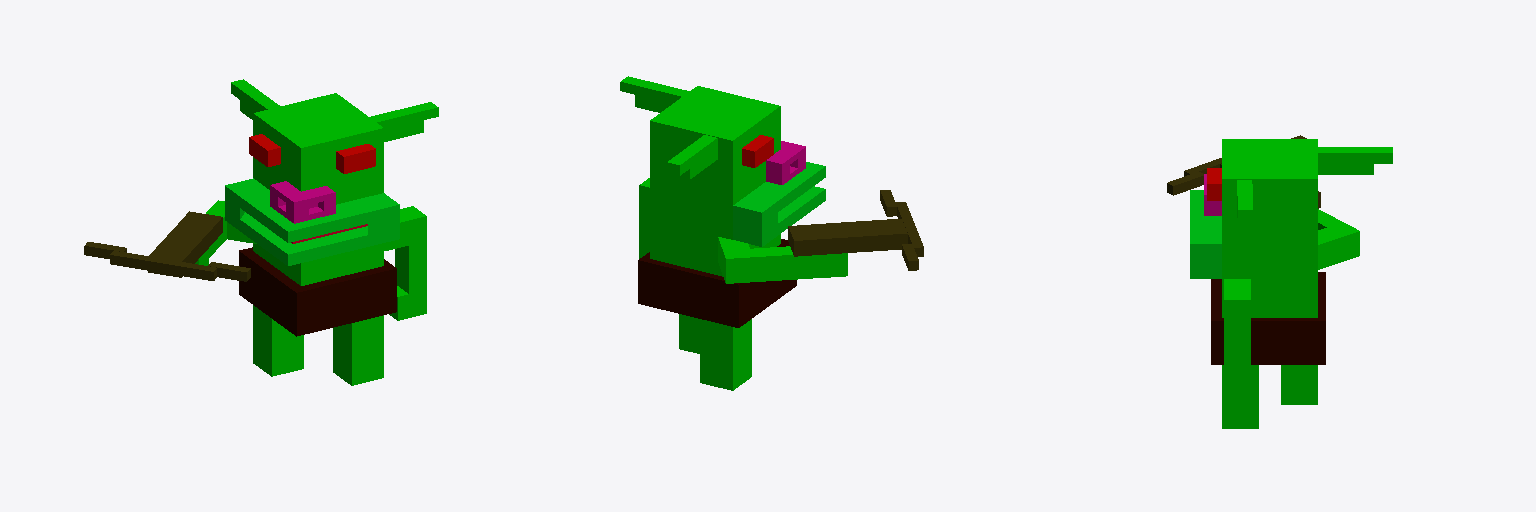
Rendered from goblin.obj.
3 views of the same model, side by side, from view 1: azimuth 30°, elevation 25°; view 2: azimuth 150°, elevation 25°; view 3: azimuth 270°, elevation 25° (orthographic).
Parts seen in each view (by area): view 1: Cube, Cube.001_Cube.003, Cube.013_Cube.016, Cube.009_Cube.012, Cube.003_Cube.005, Cube.002_Cube.004, Cube.018_Cube.021, Cube.004_Cube.006, Cube.015_Cube.018, Cube.012_Cube.015, Cube.011_Cube.014, Cube.006_Cube.008 (+2 smaller); view 2: Cube, Cube.013_Cube.016, Cube.001_Cube.003, Cube.018_Cube.021, Cube.007_Cube.009, Cube.002_Cube.004, Cube.011_Cube.014, Cube.012_Cube.015, Cube.004_Cube.006, Cube.009_Cube.012, Cube.005_Cube.007, Cube.003_Cube.005 (+2 smaller); view 3: Cube, Cube.013_Cube.016, Cube.009_Cube.012, Cube.001_Cube.003, Cube.011_Cube.014, Cube.007_Cube.009, Cube.002_Cube.004, Cube.003_Cube.005, Cube.012_Cube.015, Cube.017_Cube.020.
Boxes of the visible parts, box(x1,y1,x2,y2) form: Cube: box(253, 93, 383, 285); Cube.001_Cube.003: box(225, 178, 399, 265); Cube.013_Cube.016: box(239, 247, 396, 336); Cube.009_Cube.012: box(384, 206, 426, 320); Cube.003_Cube.005: box(333, 315, 383, 385); Cube.002_Cube.004: box(253, 305, 303, 376); Cube.018_Cube.021: box(148, 211, 222, 277); Cube.004_Cube.006: box(270, 181, 335, 223); Cube.015_Cube.018: box(110, 251, 216, 280); Cube.012_Cube.015: box(370, 102, 438, 141); Cube.011_Cube.014: box(231, 79, 280, 119); Cube.006_Cube.008: box(336, 144, 375, 173); Cube: box(650, 86, 780, 276); Cube.013_Cube.016: box(638, 239, 796, 327); Cube.001_Cube.003: box(733, 162, 825, 246); Cube.018_Cube.021: box(788, 219, 907, 256); Cube.007_Cube.009: box(718, 237, 820, 283); Cube.002_Cube.004: box(700, 319, 751, 390); Cube.011_Cube.014: box(667, 135, 717, 179); Cube.012_Cube.015: box(620, 76, 689, 112); Cube.004_Cube.006: box(766, 141, 805, 184); Cube.009_Cube.012: box(639, 178, 649, 258); Cube.005_Cube.007: box(742, 135, 773, 167); Cube.003_Cube.005: box(679, 314, 699, 353); Cube: box(1222, 139, 1317, 317); Cube.013_Cube.016: box(1211, 272, 1325, 364); Cube.009_Cube.012: box(1224, 279, 1250, 397); Cube.001_Cube.003: box(1190, 190, 1221, 278); Cube.011_Cube.014: box(1318, 147, 1392, 174); Cube.007_Cube.009: box(1318, 209, 1359, 269); Cube.002_Cube.004: box(1281, 365, 1317, 404); Cube.003_Cube.005: box(1222, 365, 1258, 428); Cube.012_Cube.015: box(1237, 180, 1252, 224); Cube.017_Cube.020: box(1167, 172, 1203, 195).
Size of the model in its own units: 3.08 by 2.28 by 1.88.